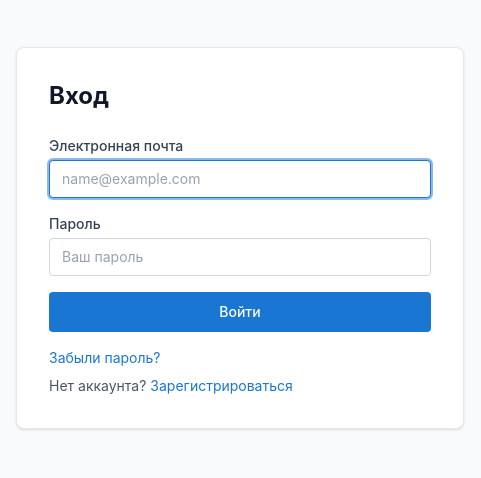
Test: LoginPage (US5 — authentication) › surfaces a localized error when credentials are invalid (US5 AC3)
Type "u@e.com" into the field labelled "Электронная почта".
click(240, 179); type("u@e.com")  # box [49, 160, 431, 198]
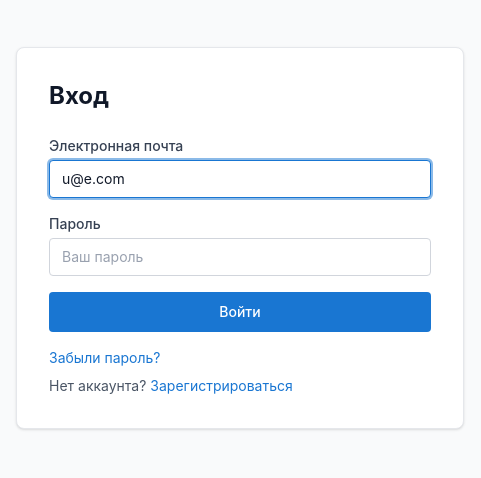
Type "bad" into the password field labelled "Пароль".
click(240, 257); type("bad")  # box [49, 238, 431, 276]
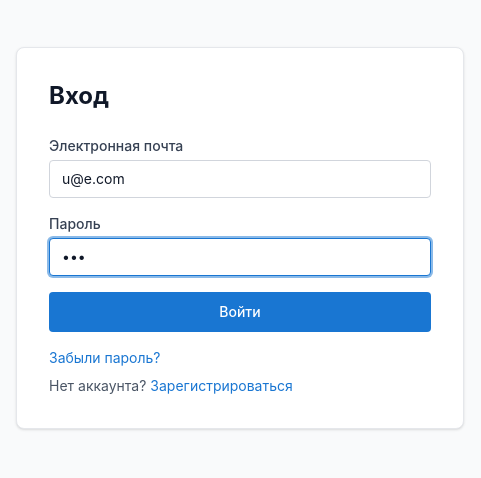
Click the button "Войти".
click(240, 312)  # box [49, 292, 431, 332]
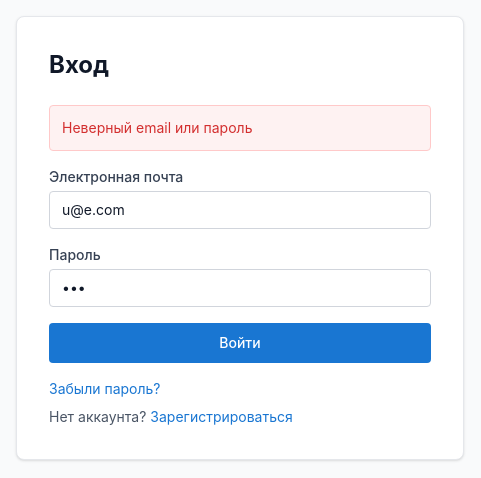
Now the message reads "Неверный email или пароль", box [62, 119, 252, 136]
